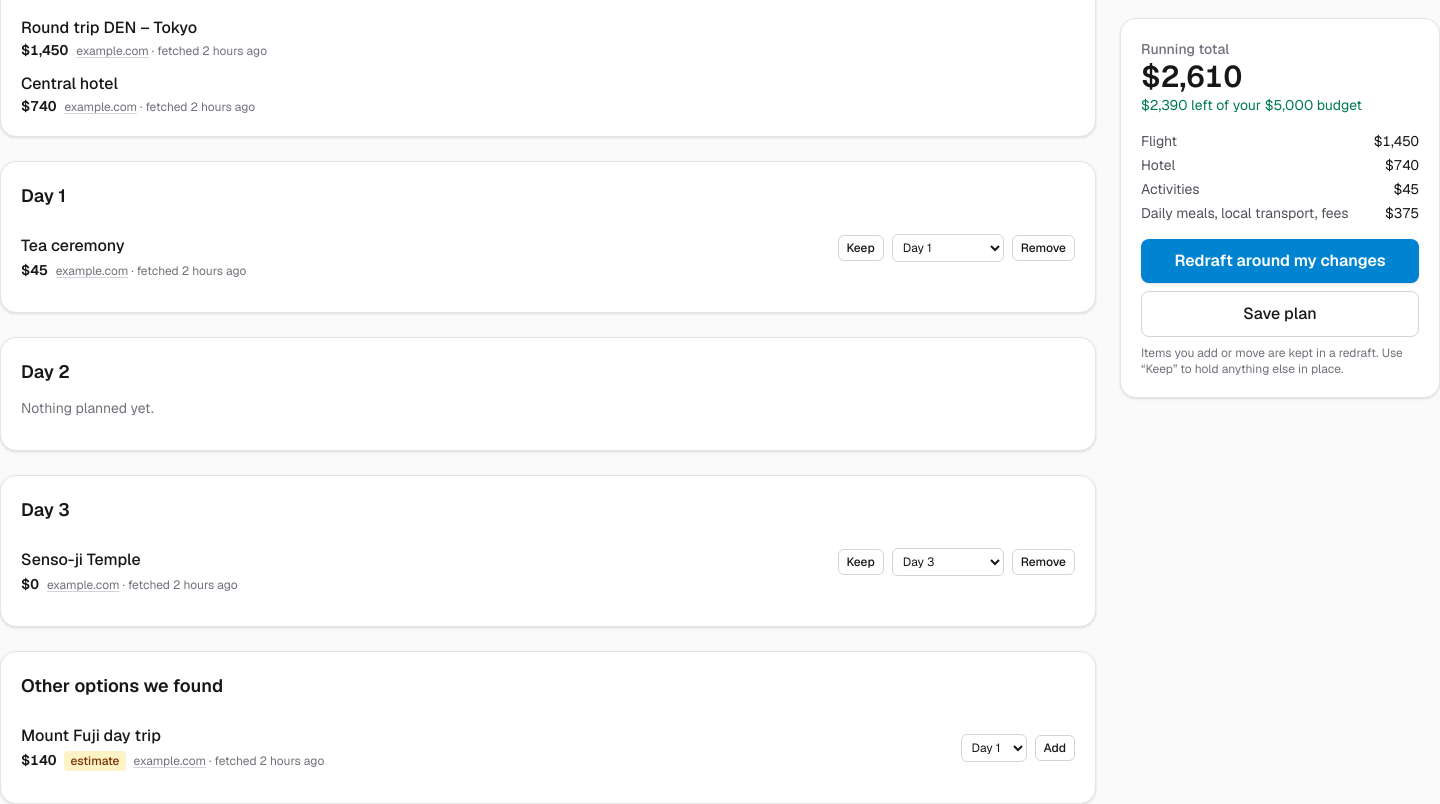
PlanEditor › save sends the running total the user saw
(page scrolled)
Click the button with aria-label "Add Mount Fuji day trip" at {"x": 1055, "y": 748}, box [1034, 734, 1075, 760]
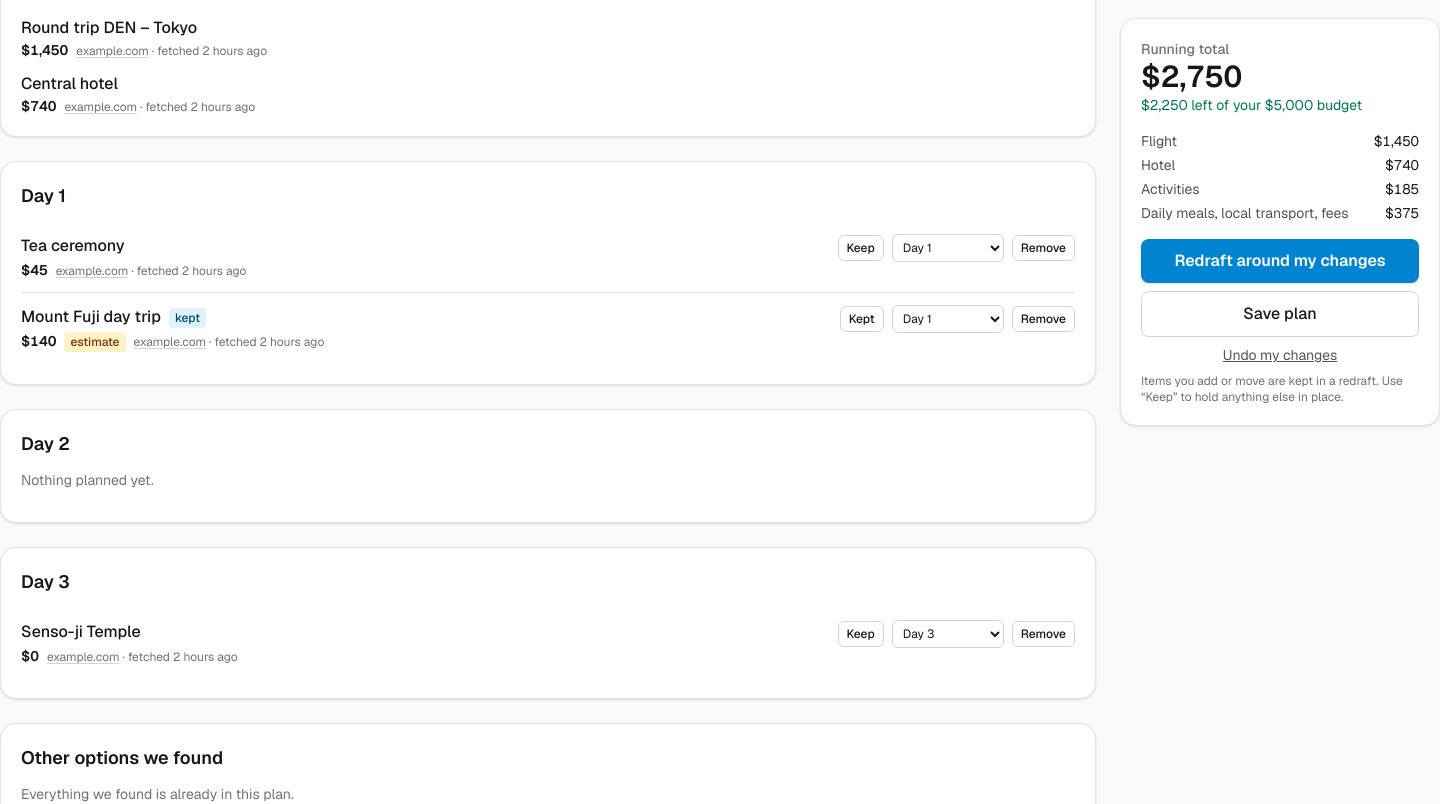
Click the button "Save plan" at {"x": 1280, "y": 314}, box [1141, 291, 1419, 337]
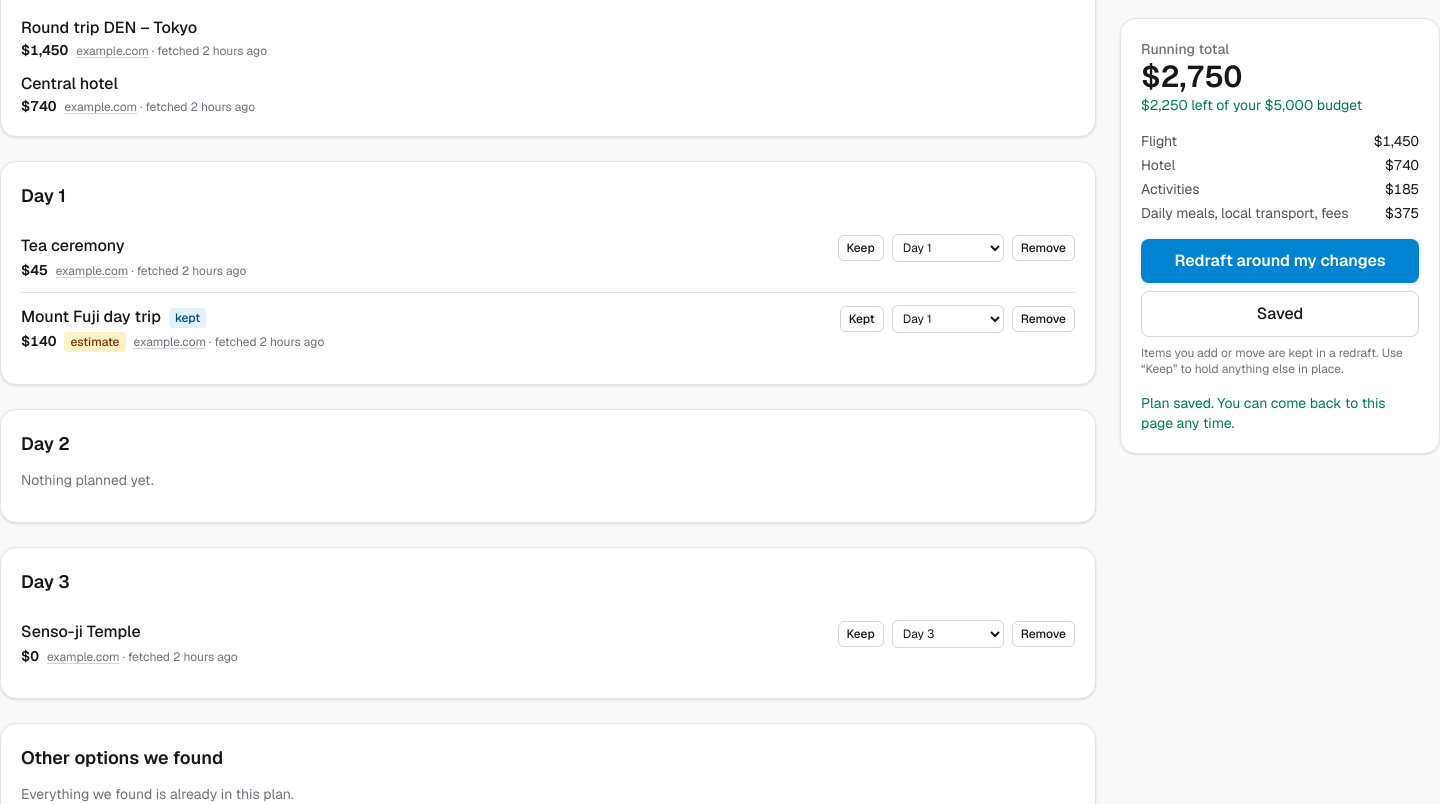
expect the text "Plan saved. You can come back to this page any time." is shown: met, box [1141, 393, 1419, 433]
